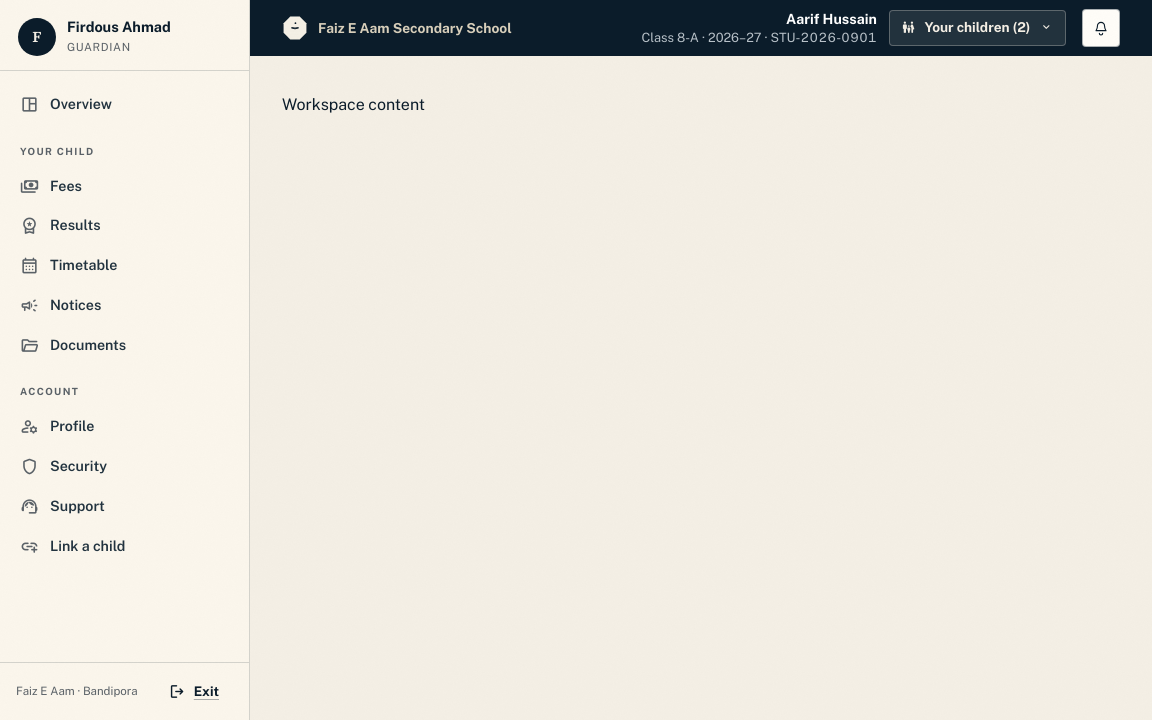
Scenario: portal shell child switcher › describes the student reference (never a claim reference) and returns focus on Escape
Step 1. Click the button "Your children (2)" → (977, 28), box [889, 10, 1066, 46]
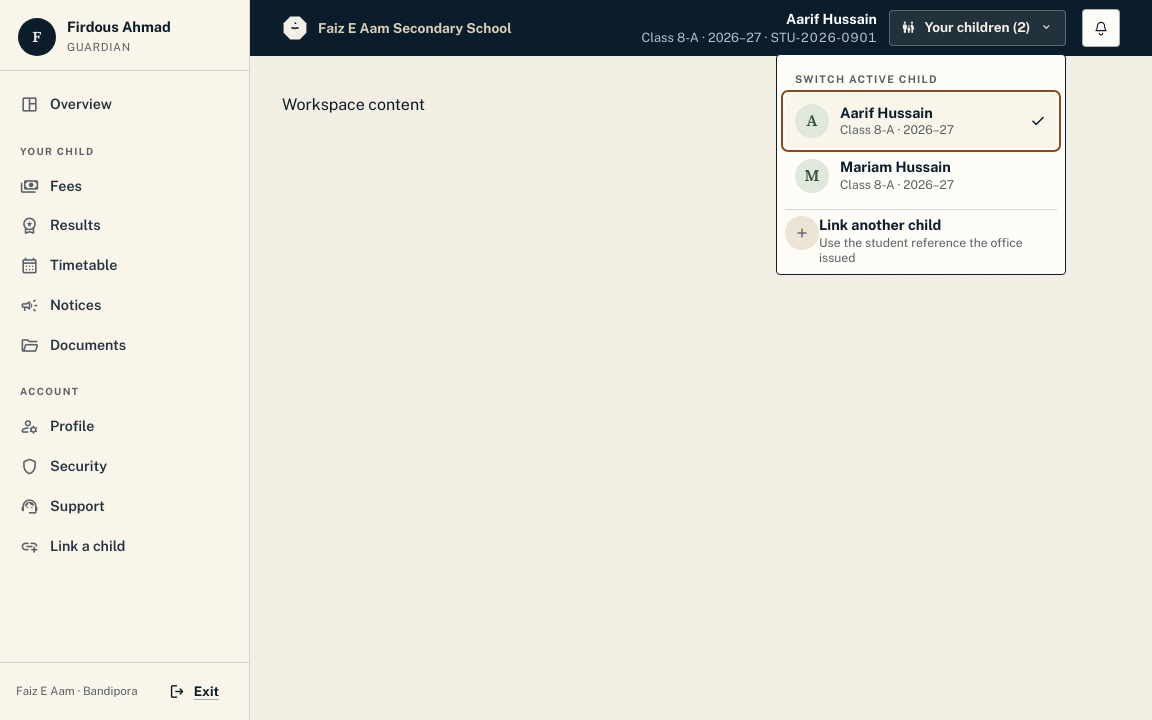
Check: the text "Use the student reference the office issued" is shown, box [819, 234, 1057, 266]
Step 2. Press Arrowdown
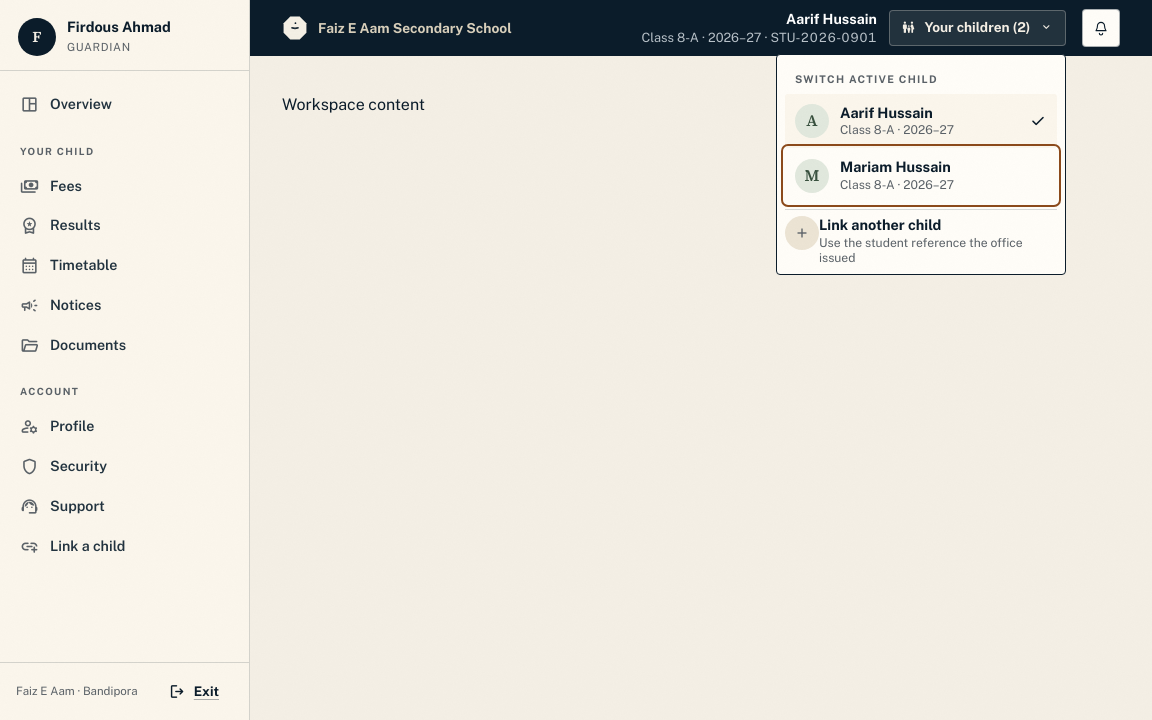
Step 3. Press Arrowup
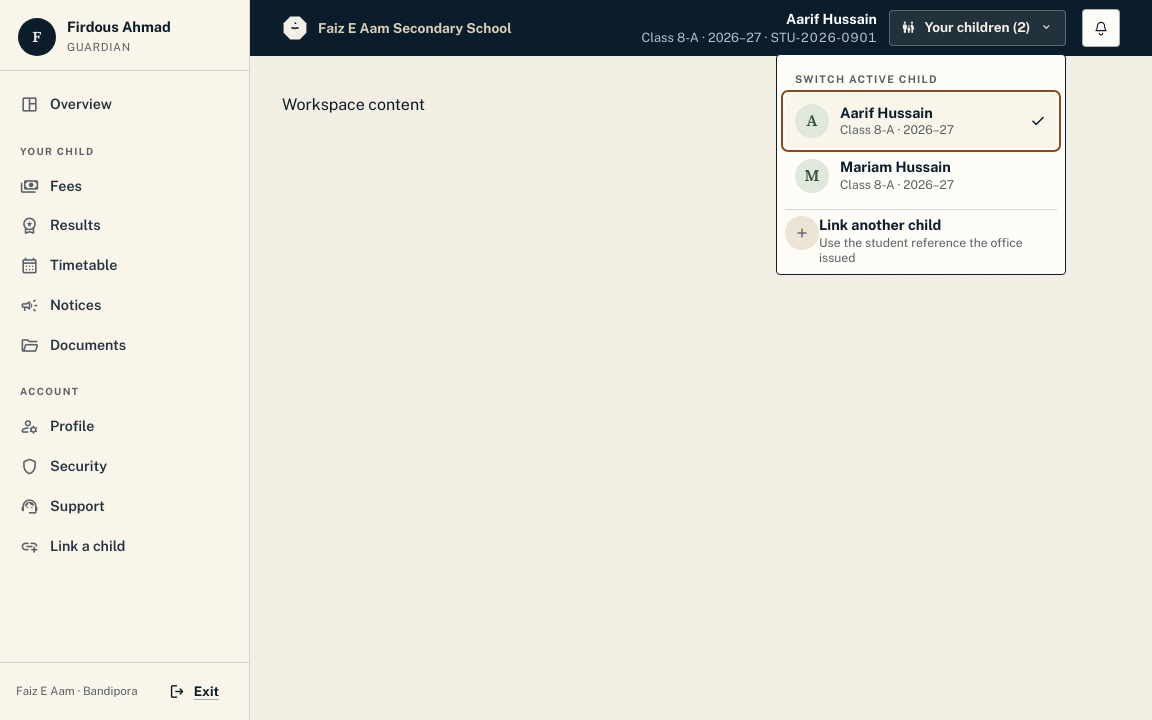
Step 4. Press Escape
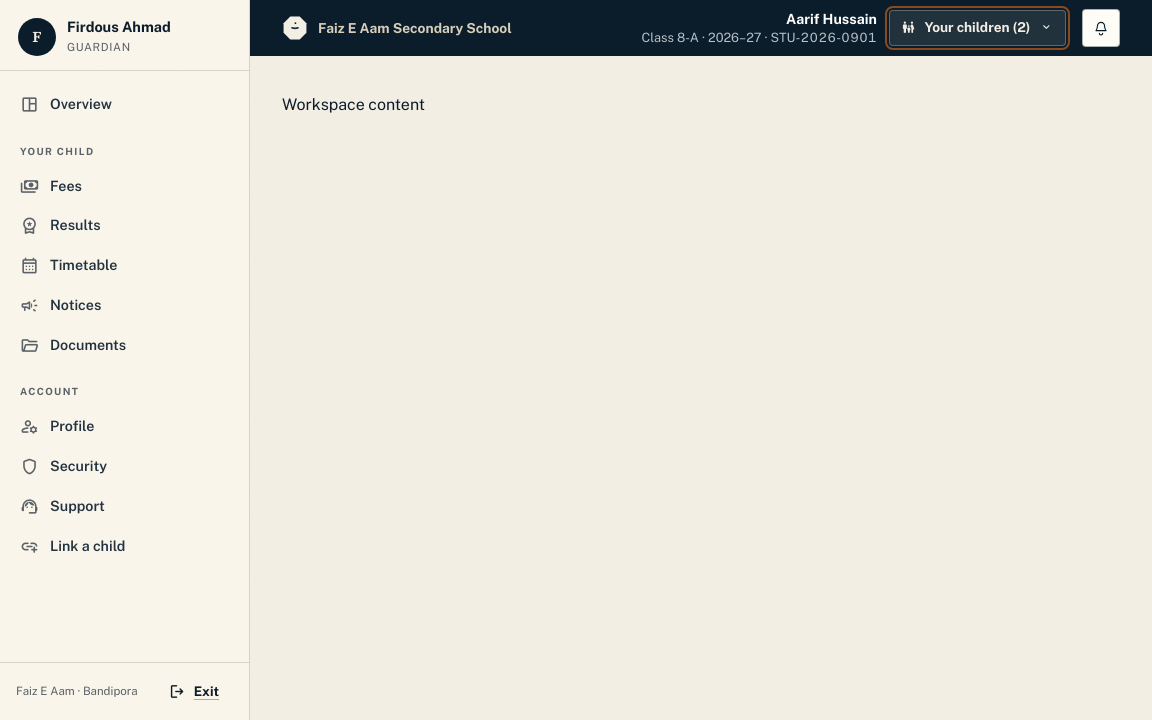
Check: the menu item "Use the student reference the office issued" is gone
